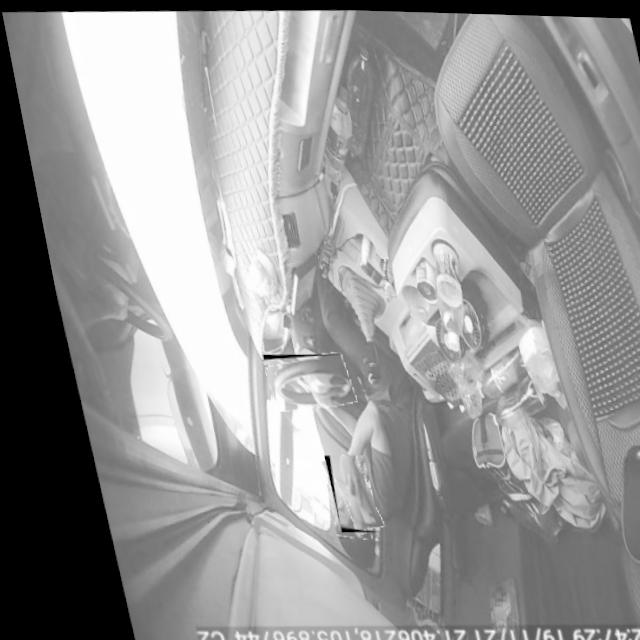phone: (304, 451, 359, 530), (306, 480, 355, 536)
wheel: (247, 349, 340, 408)
